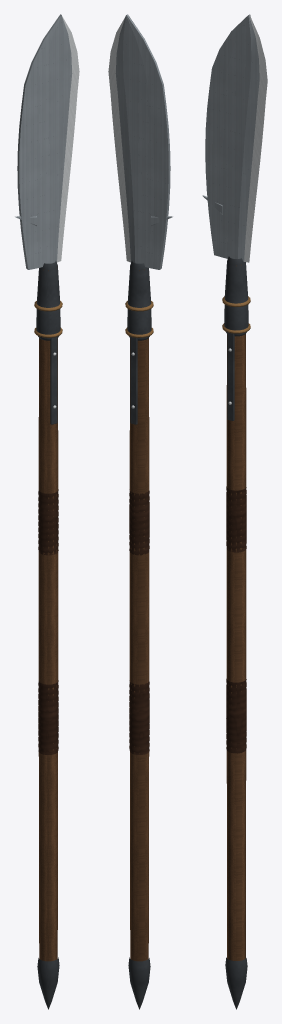
The model's file is glaive.lod1.glb.
The picture shows the model from 3 angles, left to right: view 1: azimuth 30°, elevation 25°; view 2: azimuth 150°, elevation 25°; view 3: azimuth 330°, elevation 25°; orthographic projection.
Visible parts, largest first — view 1: steel / forged blade steel, wood / oiled hardwood, darksteel / oil-blackened fittings, leather / oiled leather wrap, edge / honed bright bevel, bronze / cast bronze with patina; view 2: steel / forged blade steel, wood / oiled hardwood, darksteel / oil-blackened fittings, leather / oiled leather wrap, edge / honed bright bevel, bronze / cast bronze with patina; view 3: steel / forged blade steel, wood / oiled hardwood, darksteel / oil-blackened fittings, leather / oiled leather wrap, edge / honed bright bevel, bronze / cast bronze with patina.
Boxes of the visible parts, box(x1,y1,x2,y2) form: steel / forged blade steel: box(15, 14, 72, 269); wood / oiled hardwood: box(38, 266, 58, 961); darksteel / oil-blackened fittings: box(36, 261, 60, 1009); leather / oiled leather wrap: box(38, 489, 58, 754); edge / honed bright bevel: box(53, 16, 79, 408); bronze / cast bronze with patina: box(34, 300, 62, 337); steel / forged blade steel: box(115, 14, 172, 269); wood / oiled hardwood: box(129, 266, 149, 961); darksteel / oil-blackened fittings: box(127, 261, 151, 1009); leather / oiled leather wrap: box(129, 490, 149, 754); edge / honed bright bevel: box(108, 17, 134, 408); bronze / cast bronze with patina: box(125, 300, 153, 337); steel / forged blade steel: box(202, 14, 259, 261); wood / oiled hardwood: box(226, 265, 246, 960); darksteel / oil-blackened fittings: box(224, 256, 248, 1009); leather / oiled leather wrap: box(226, 486, 246, 753); edge / honed bright bevel: box(228, 14, 267, 404); bronze / cast bronze with patina: box(222, 296, 250, 333).
Size of the model in its own units: 0.1539 by 2.25 by 0.0582.
6 materials, 6 textured.
